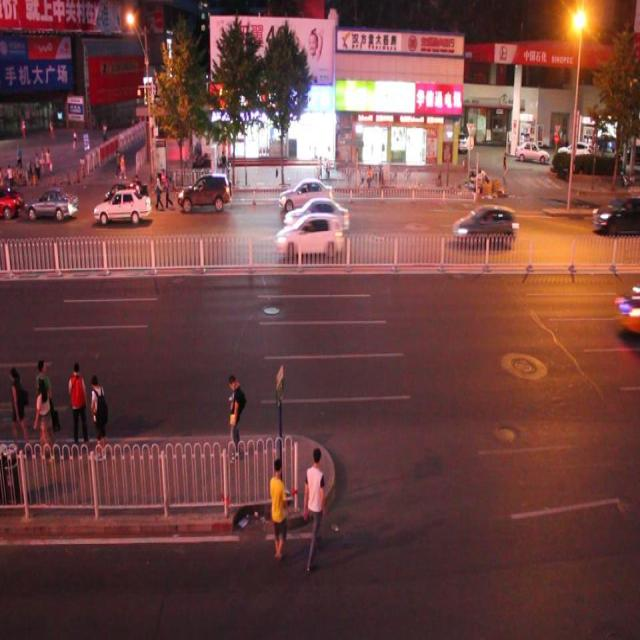car: (272, 214, 342, 258), (452, 202, 514, 250), (284, 195, 349, 234), (591, 194, 640, 236), (96, 188, 152, 222), (278, 177, 333, 210), (25, 186, 79, 218), (178, 173, 229, 206), (103, 180, 146, 208)
